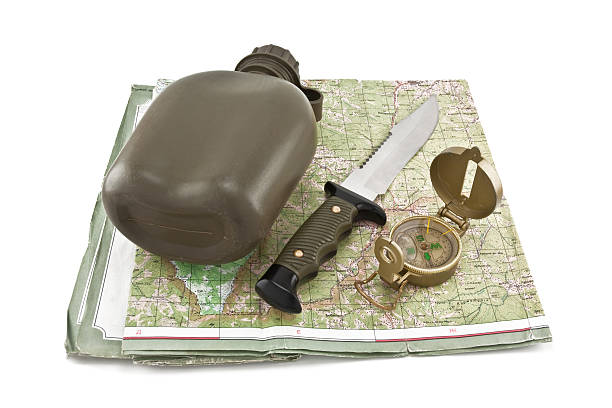knife: (252, 93, 441, 316)
